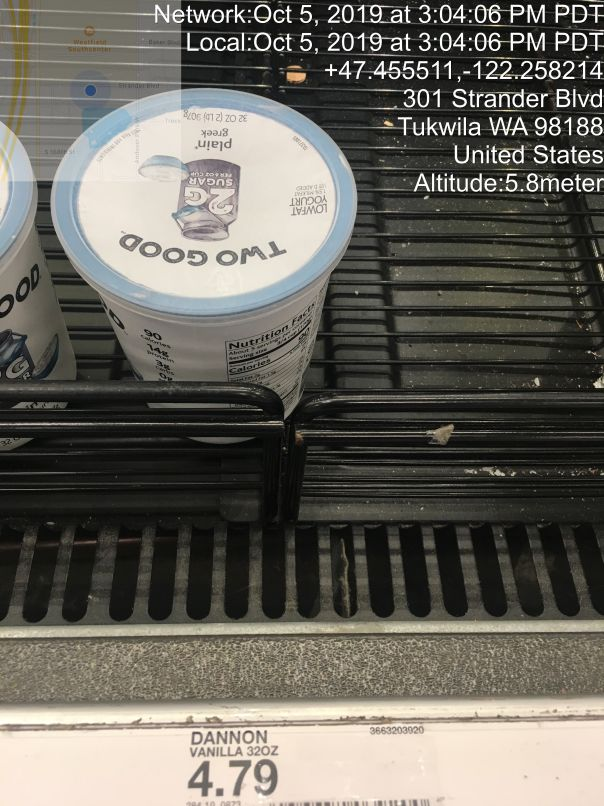Dannon: (64, 81, 356, 447)
Label: (177, 716, 466, 806)
Location: (392, 82, 604, 172)
Time: (150, 2, 604, 57)
